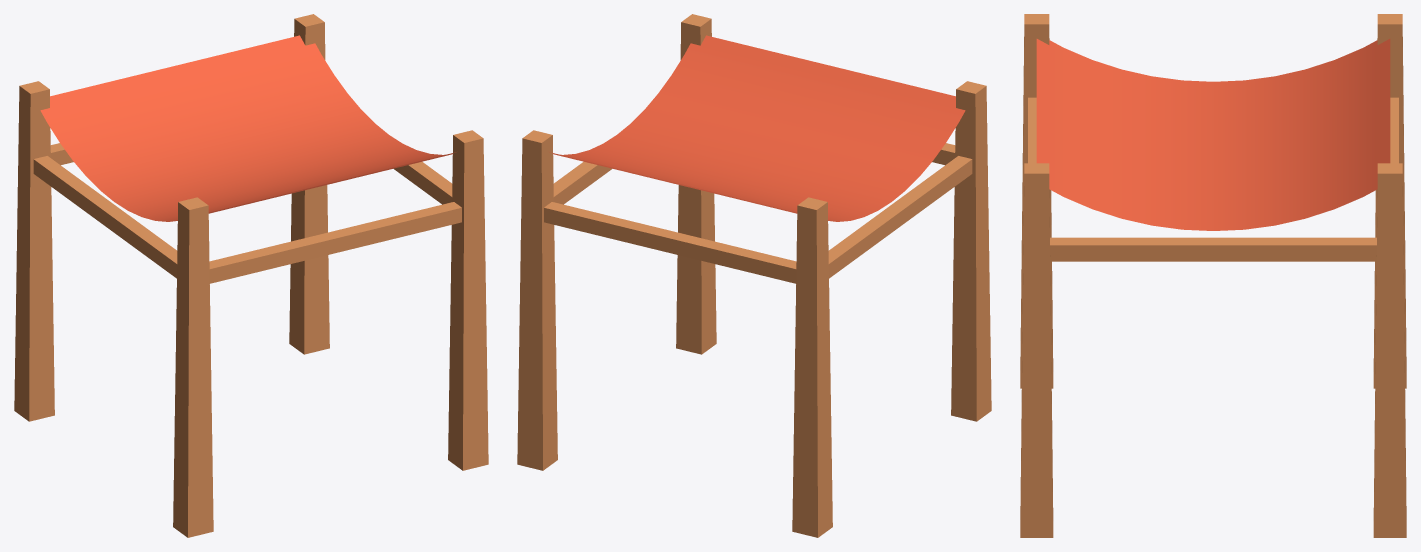
The model's file is structureCloth.dae.
3 renders of one model, left to right at view 1: azimuth 30°, elevation 25°; view 2: azimuth 150°, elevation 25°; view 3: azimuth 270°, elevation 25°, orthographic. The views are drawn at different scales.
Visible parts, largest first — view 1: structureCloth; view 2: structureCloth; view 3: structureCloth.
Boxes of the visible parts, bbox=[...] form: structureCloth: bbox=[14, 14, 488, 537]; structureCloth: bbox=[517, 14, 991, 537]; structureCloth: bbox=[1020, 14, 1406, 537].
Bounding box in the file's own units: 2 × 2.07 × 2.
